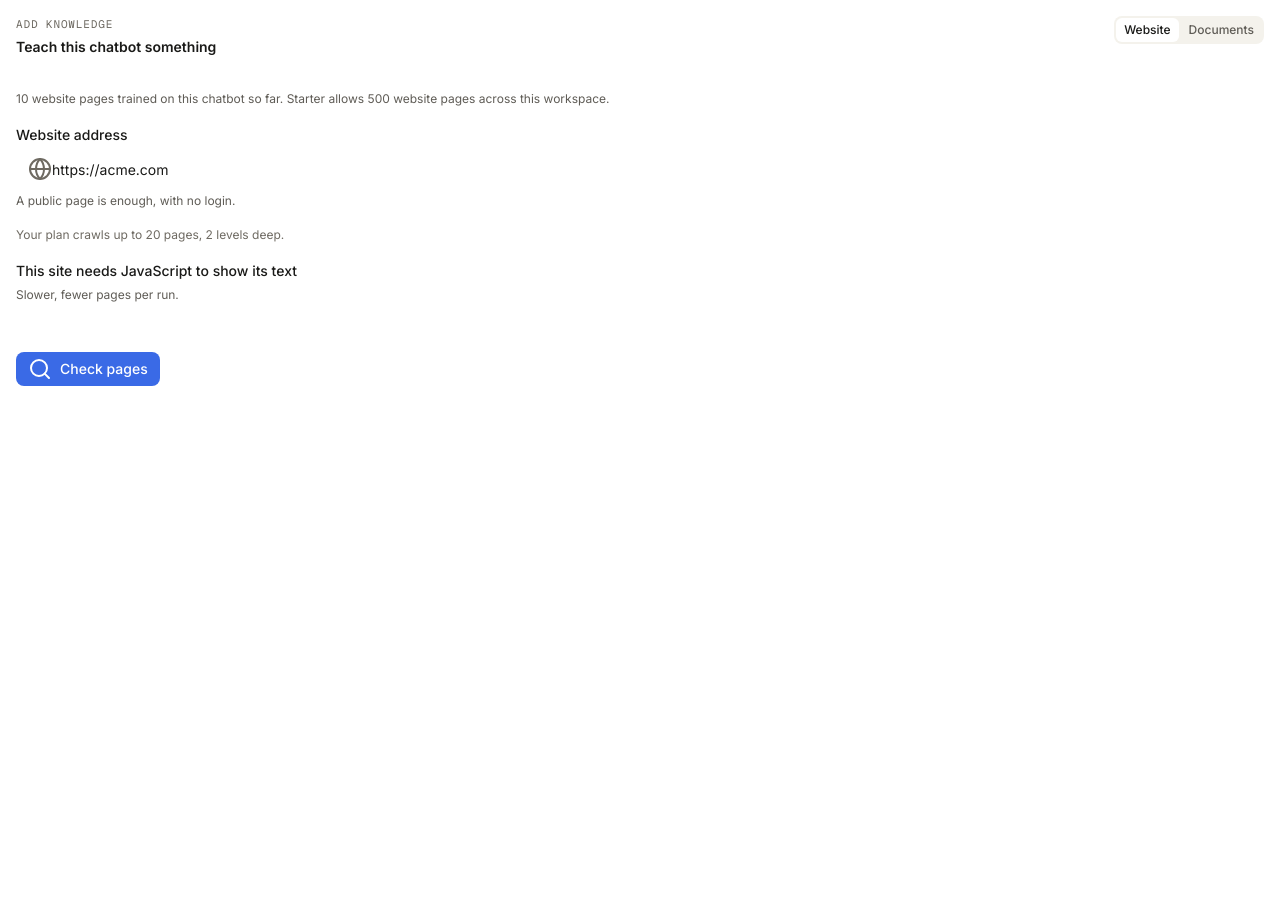
Scenario: AddKnowledgePanel — the website flow › reports the crawl budget the server sent, which nothing used to read
The width and height of the screenshot is (1280, 900).
Click the button "Check pages": click(88, 369) [16,352,160,386]
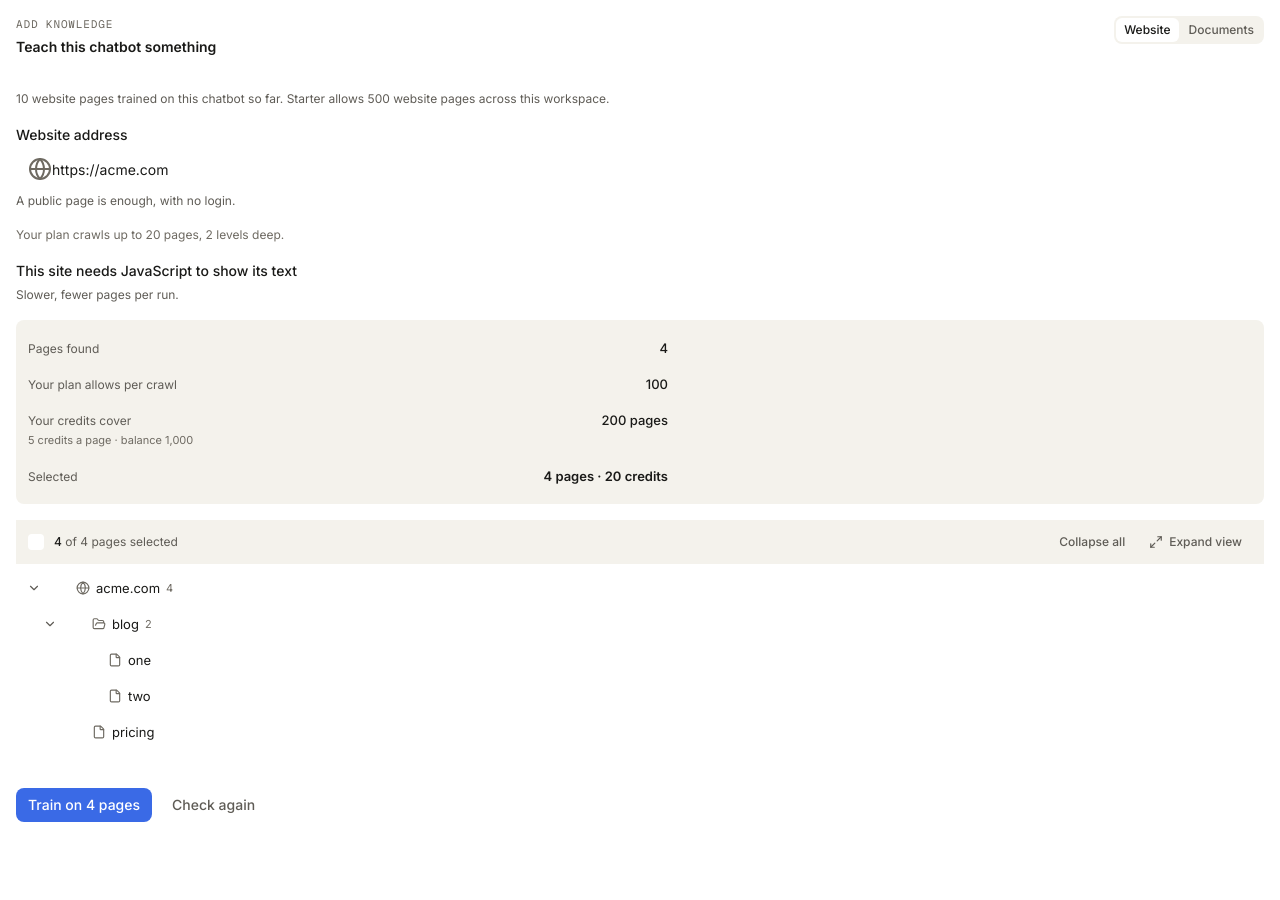
Result: the text "Your plan allows per crawl" is shown at [28,376,177,394]
Result: the text "100" is shown at [646,374,668,394]
Result: the text "200 pages" is shown at [602,410,668,430]
